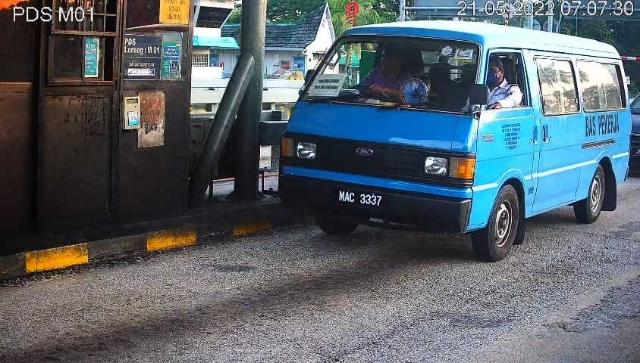License_Plate: (336, 187, 389, 212)
van: (280, 21, 633, 264)
